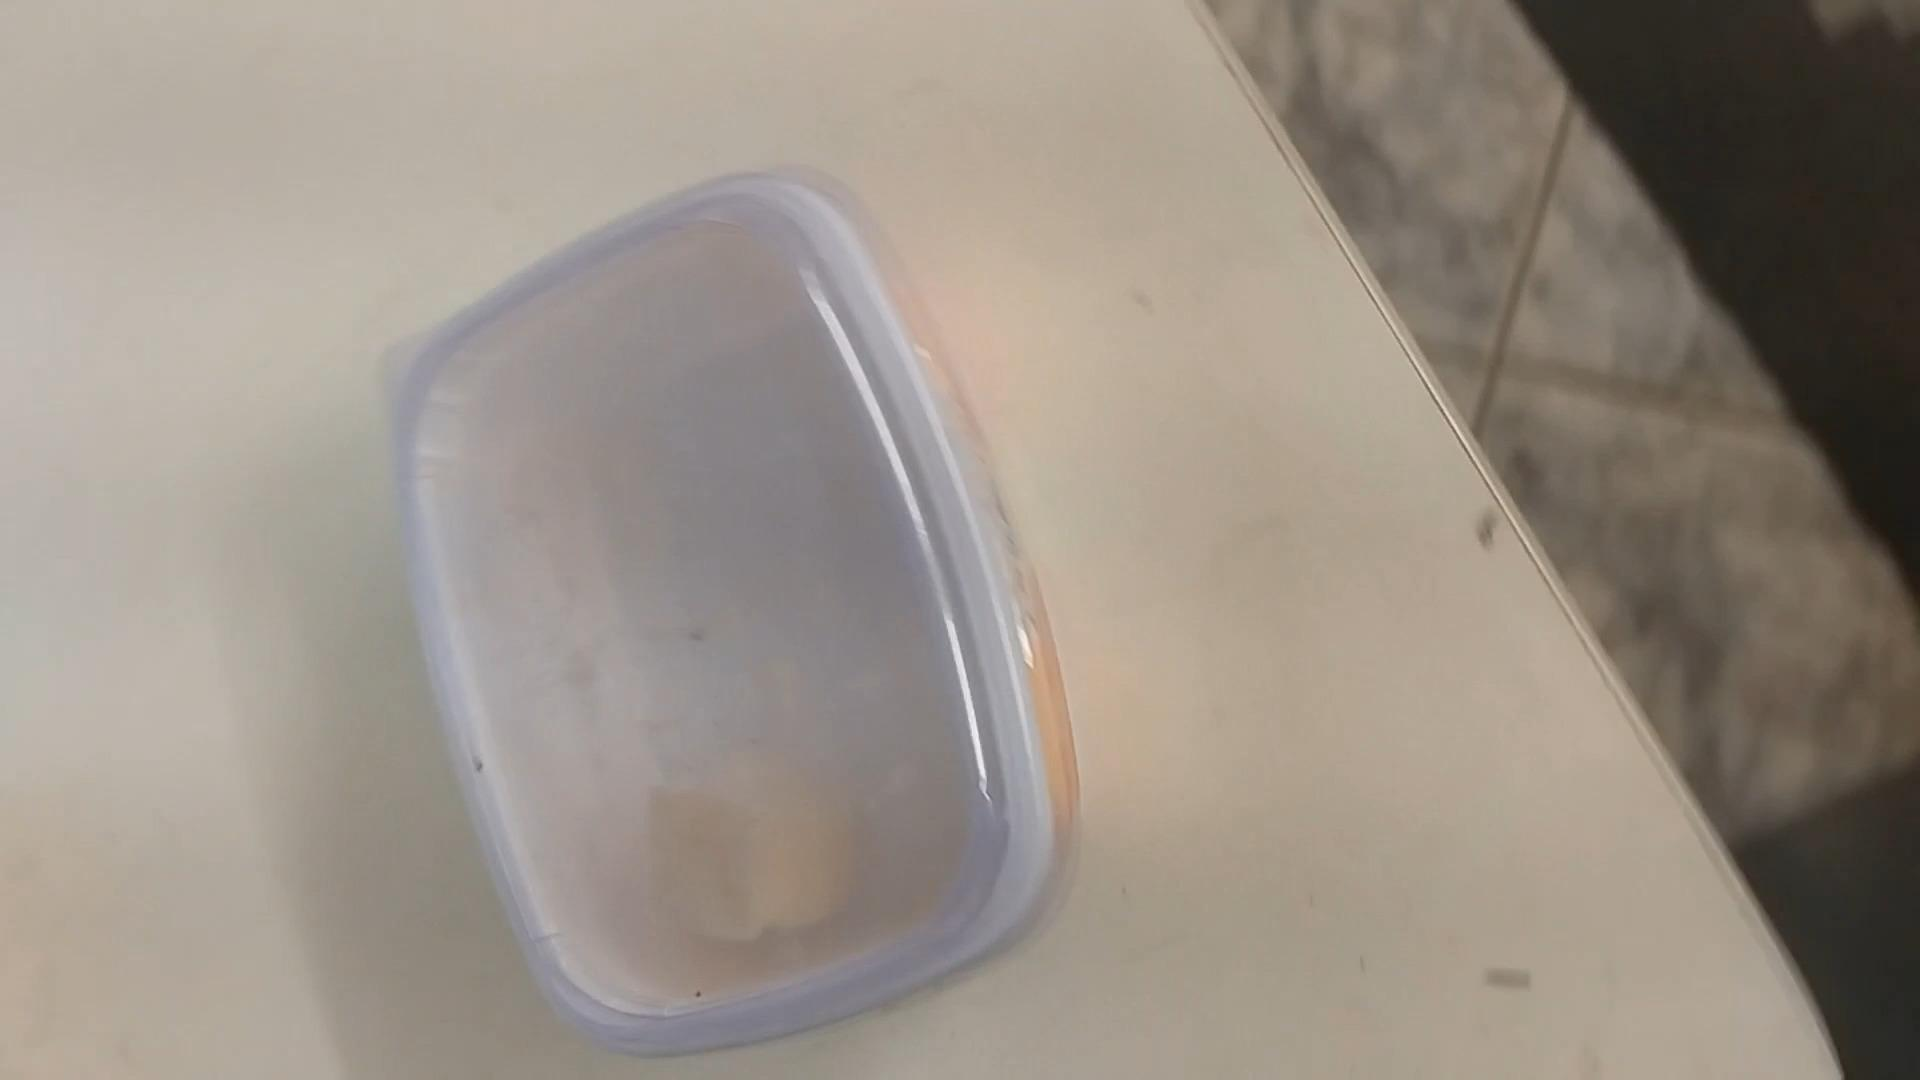butter: (388, 181, 1056, 1052)
